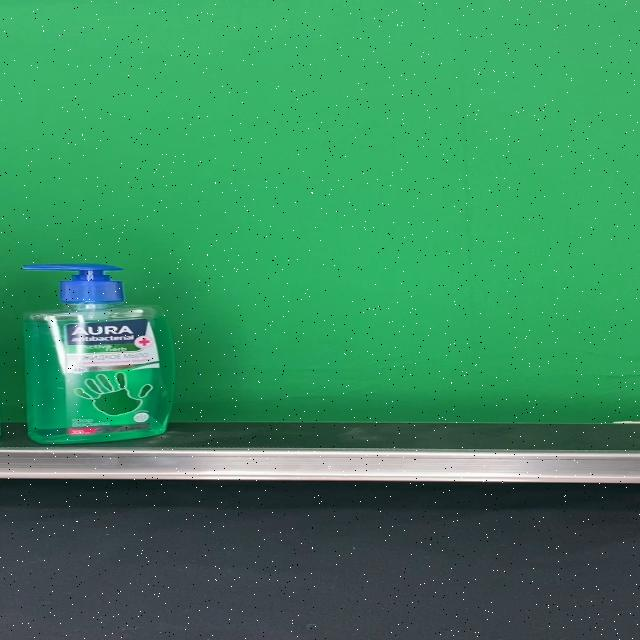Bottle: (22, 264, 176, 444)
Cap: (22, 264, 122, 306)
